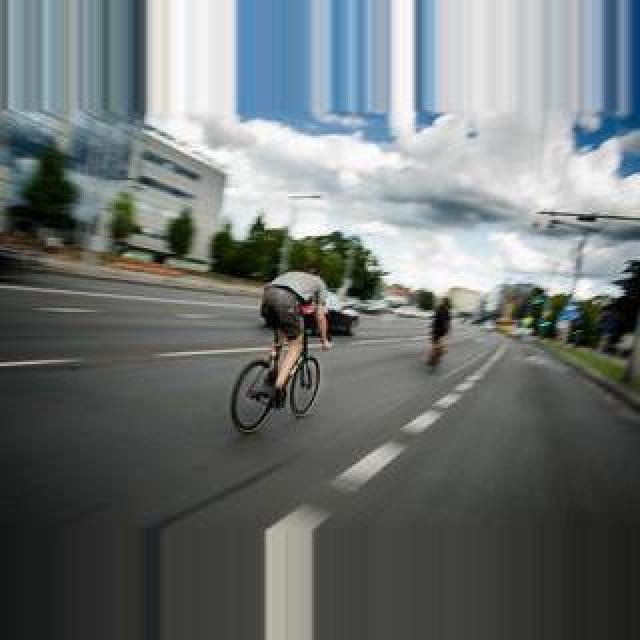MC-Bike: (258, 268, 332, 404)
Person: (228, 330, 324, 436)
